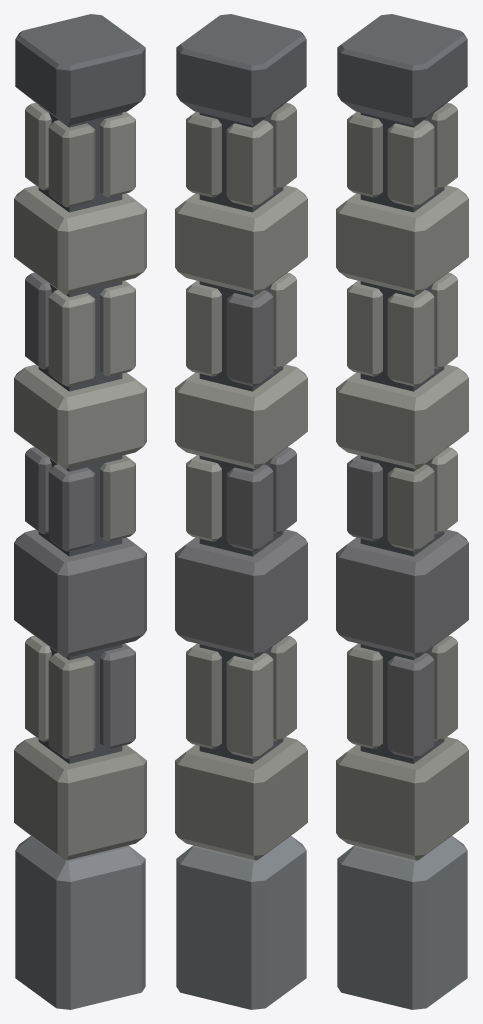
File: SM_LPD_Struct_CornerPostPlain_01.fbx
The picture shows the model from 3 angles, left to right: view 1: azimuth 30°, elevation 25°; view 2: azimuth 150°, elevation 25°; view 3: azimuth 330°, elevation 25°; orthographic projection.
Parts seen in each view (by area): view 1: SM_LPD_Struct_CornerPostPlain_01; view 2: SM_LPD_Struct_CornerPostPlain_01; view 3: SM_LPD_Struct_CornerPostPlain_01.
Boxes of the visible parts, x1,y1,x2,y2 form: SM_LPD_Struct_CornerPostPlain_01: [14, 14, 146, 1009]; SM_LPD_Struct_CornerPostPlain_01: [175, 14, 307, 1009]; SM_LPD_Struct_CornerPostPlain_01: [336, 14, 468, 1009].
Size of the model in its own units: 0.396 by 4 by 0.396.
